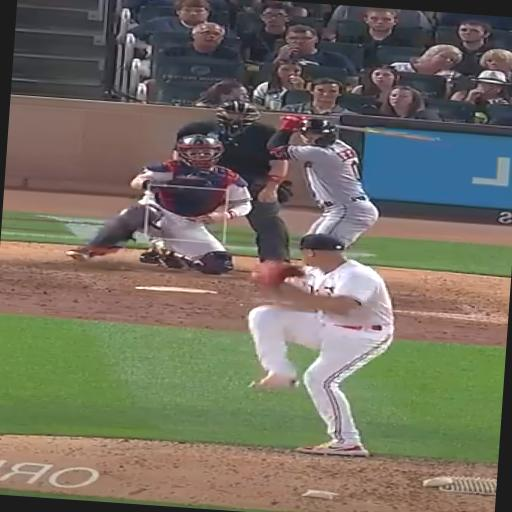bat: (336, 125, 437, 141)
